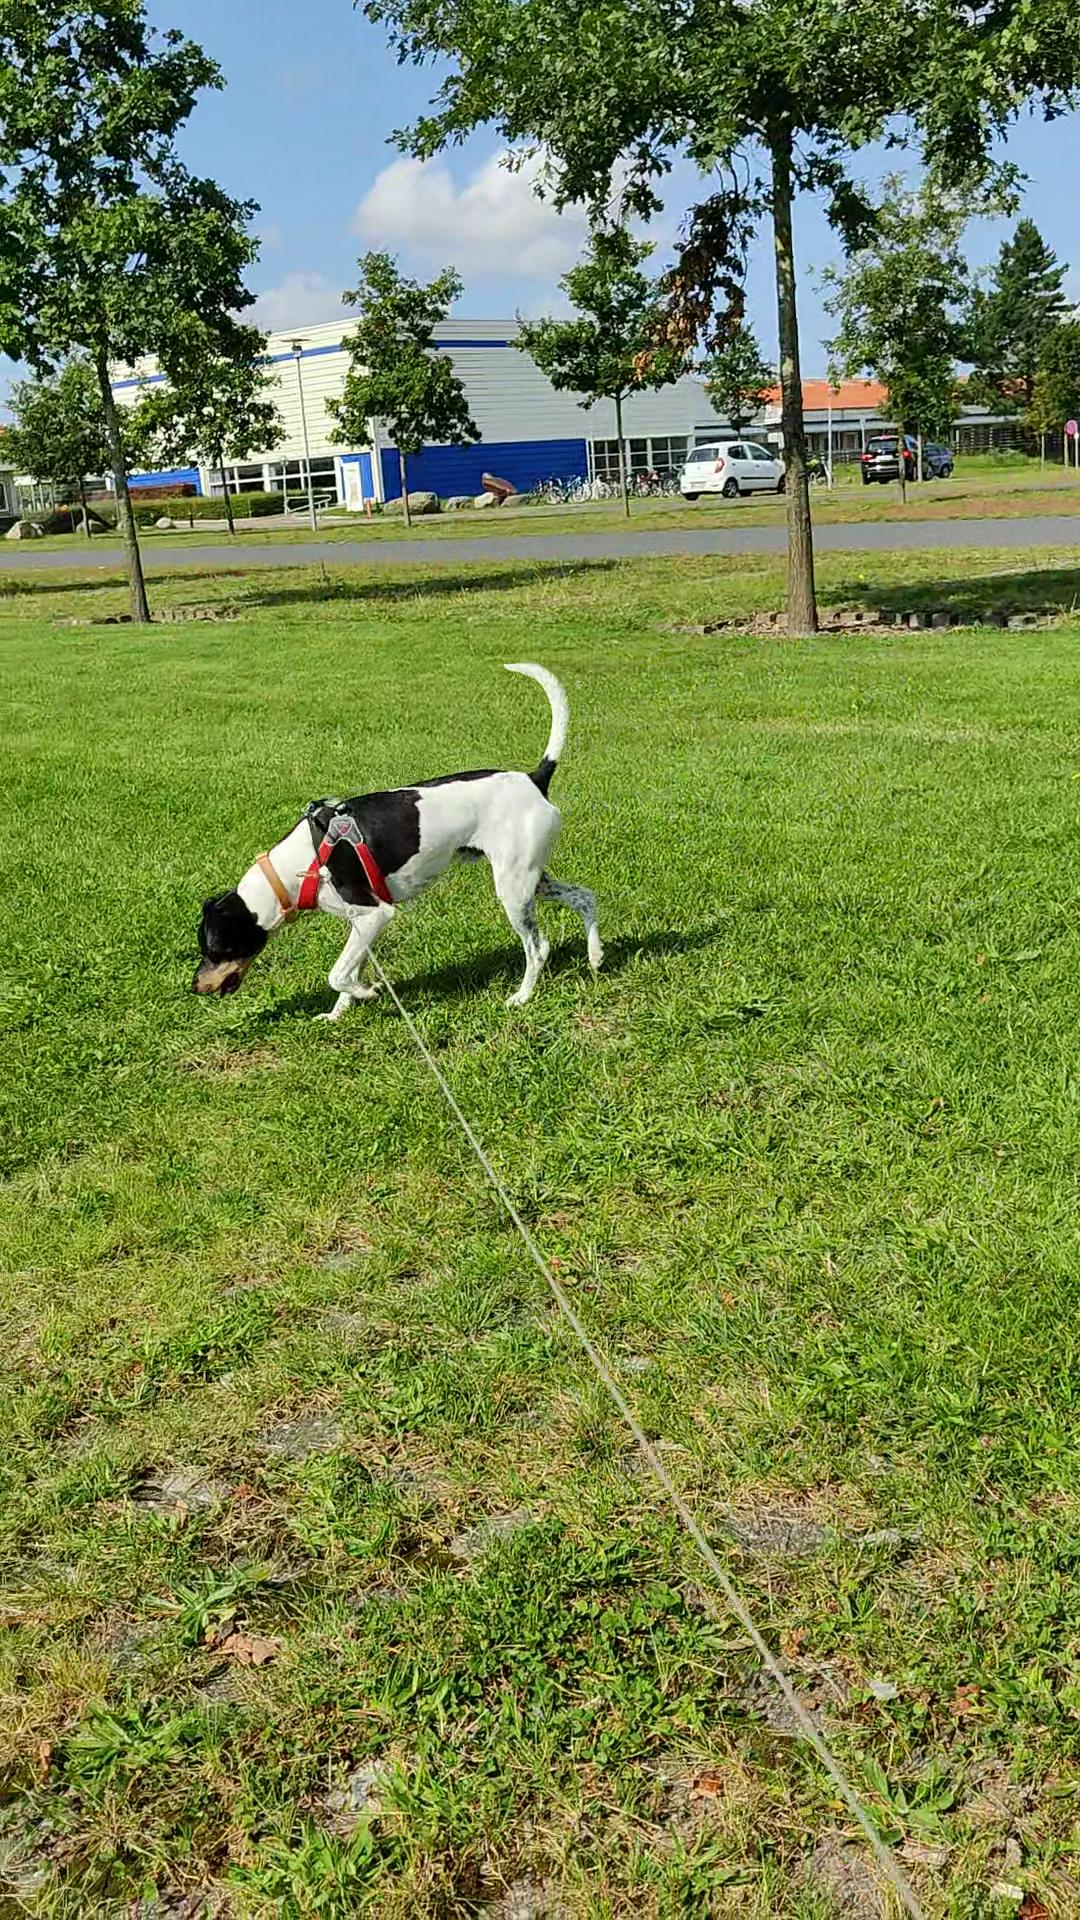Dog: (185, 658, 608, 1021)
